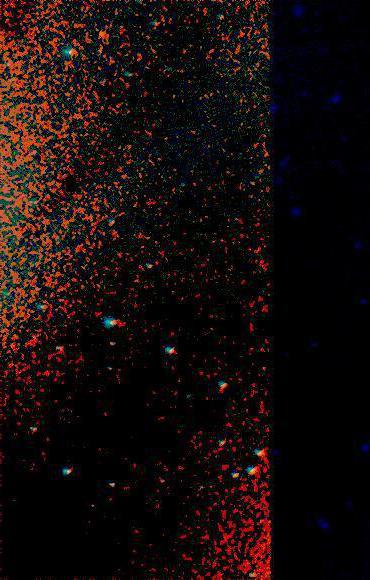star: (85, 19, 115, 49)
